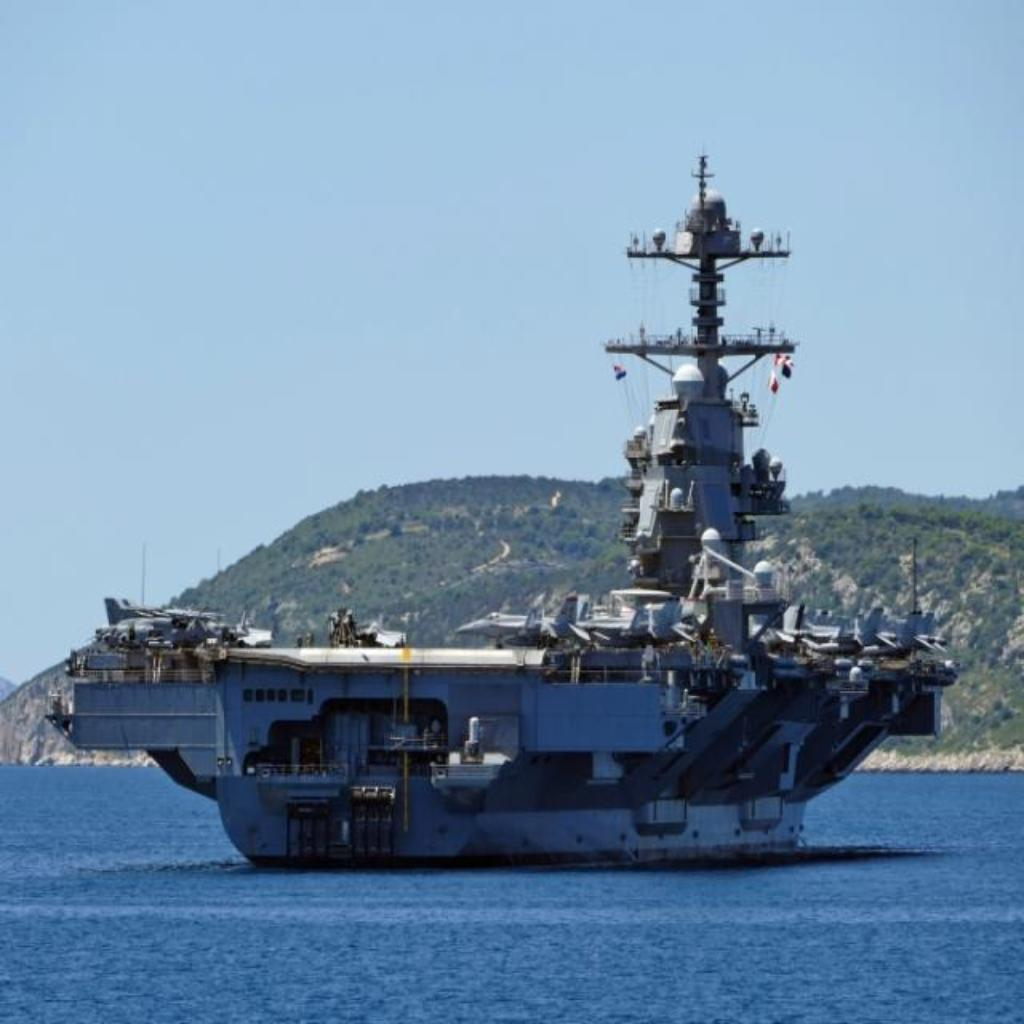Warship: (39, 148, 957, 872)
